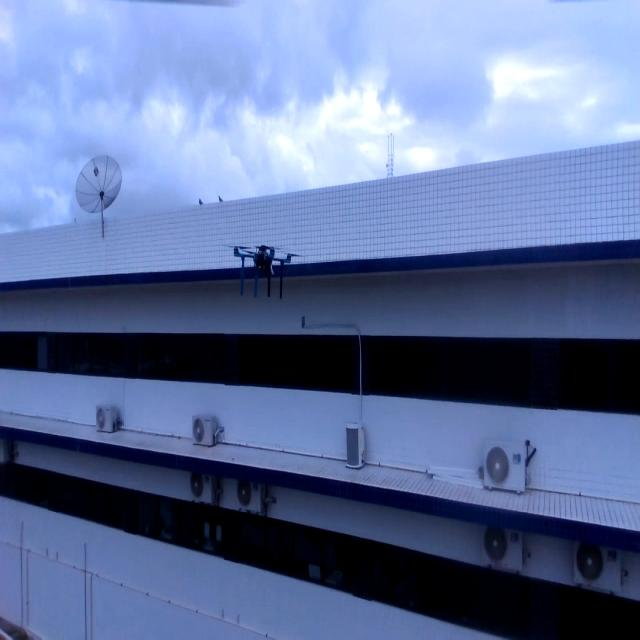-uav-: (218, 234, 302, 310)
